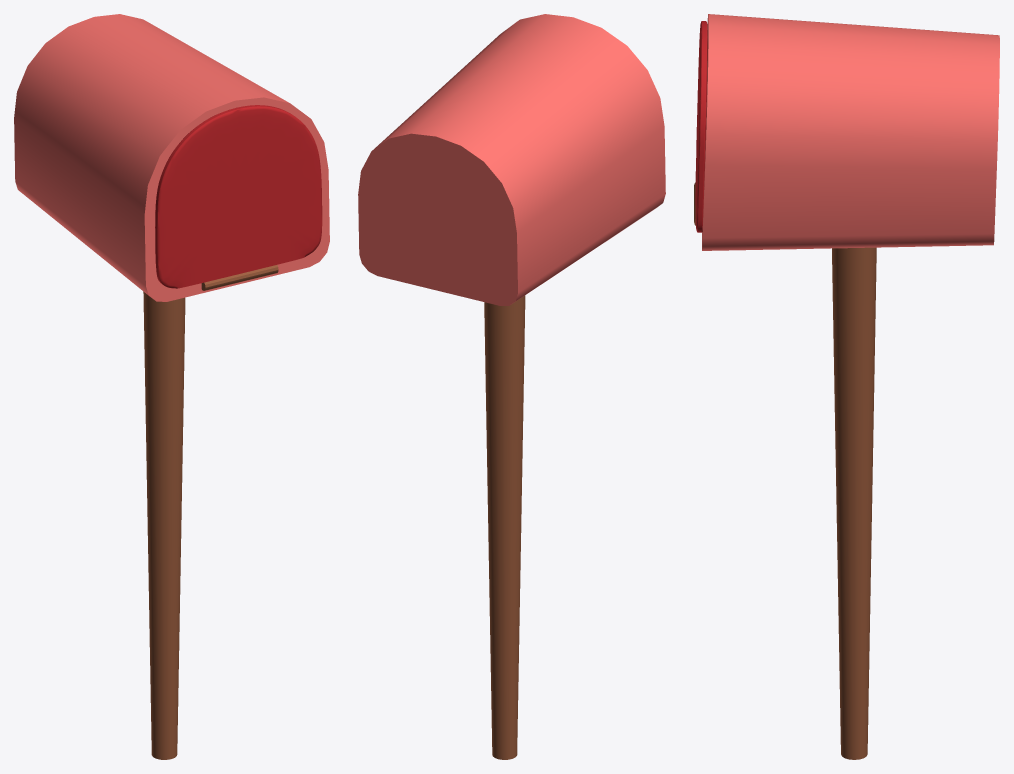
The model's file is maibox 1.fbx.
3 renders of one model, left to right at view 1: azimuth 30°, elevation 25°; view 2: azimuth 150°, elevation 25°; view 3: azimuth 270°, elevation 25°, orthographic. The views are drawn at different scales.
Parts seen in each view (by area): view 1: Cube.001, Cube.002, Circle, Cylinder; view 2: Cube.001, Circle; view 3: Cube.001, Circle, Cube.002.
Boxes of the visible parts, x1=… form: Cube.001: x1=14, y1=14, x2=329, y2=301; Cube.002: x1=155, y1=105, x2=322, y2=288; Circle: x1=143, y1=291, x2=185, y2=759; Cylinder: x1=201, y1=265, x2=278, y2=290; Cube.001: x1=358, y1=14, x2=665, y2=305; Circle: x1=484, y1=295, x2=525, y2=759; Cube.001: x1=702, y1=14, x2=999, y2=250; Circle: x1=832, y1=247, x2=876, y2=759; Cube.002: x1=695, y1=21, x2=707, y2=232.
Bounding box in the file's own units: 126 × 460 × 175.
